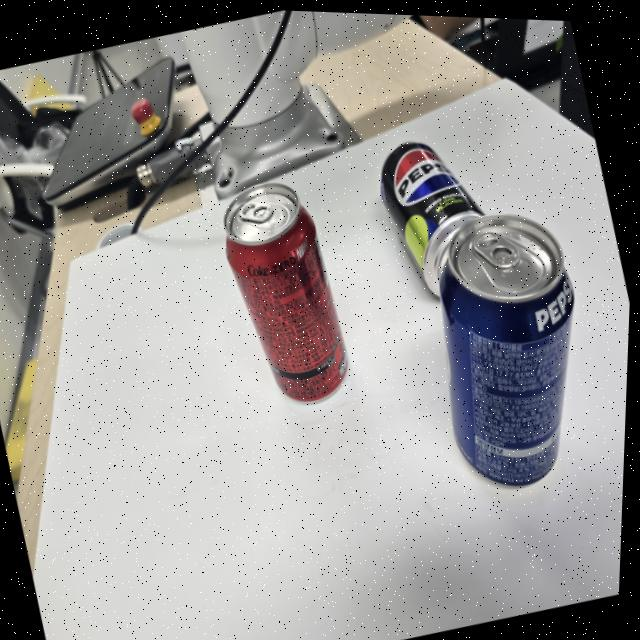can_coke_zero: (224, 183, 347, 400)
can_pepsi: (439, 214, 574, 485)
can_pepsi_zero: (381, 142, 483, 293)
